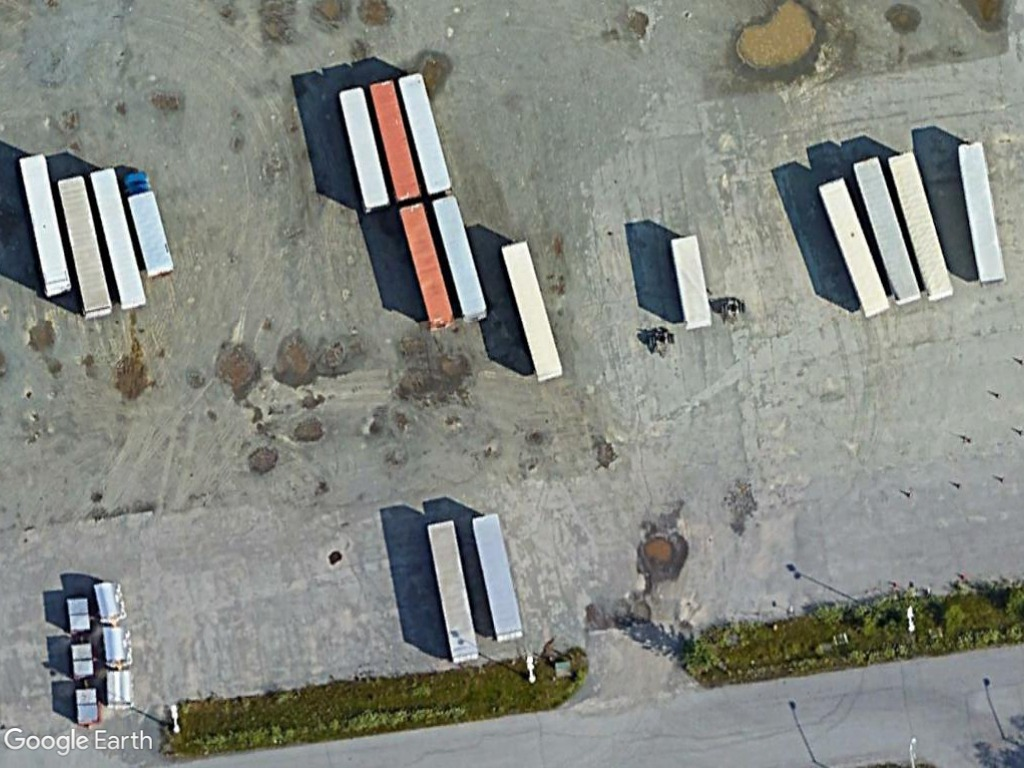longvehicle: (809, 171, 891, 324), (851, 150, 926, 314), (885, 145, 956, 309), (495, 236, 567, 383), (419, 514, 485, 666), (13, 148, 77, 304), (52, 169, 114, 318), (362, 67, 424, 215), (90, 158, 148, 315), (394, 196, 460, 332), (954, 135, 1010, 289), (468, 504, 527, 647), (393, 67, 454, 203), (430, 188, 486, 329), (337, 81, 392, 215), (665, 221, 716, 338)
truck: (119, 166, 179, 285)
